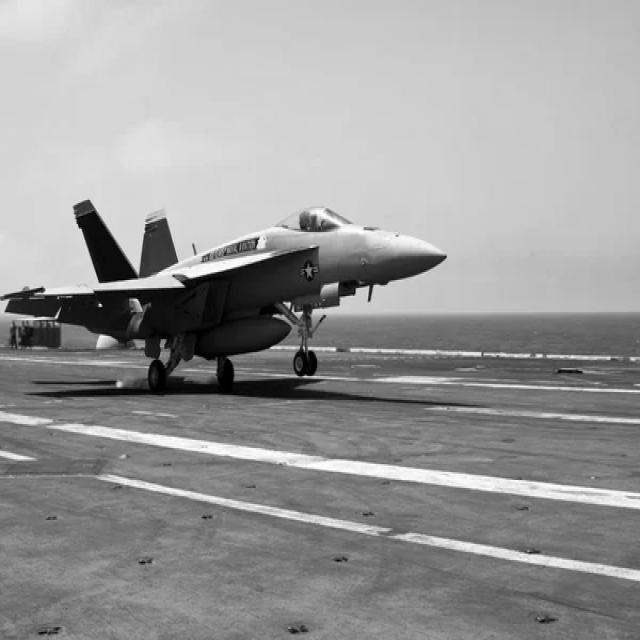Aircraft: (8, 189, 453, 403)
